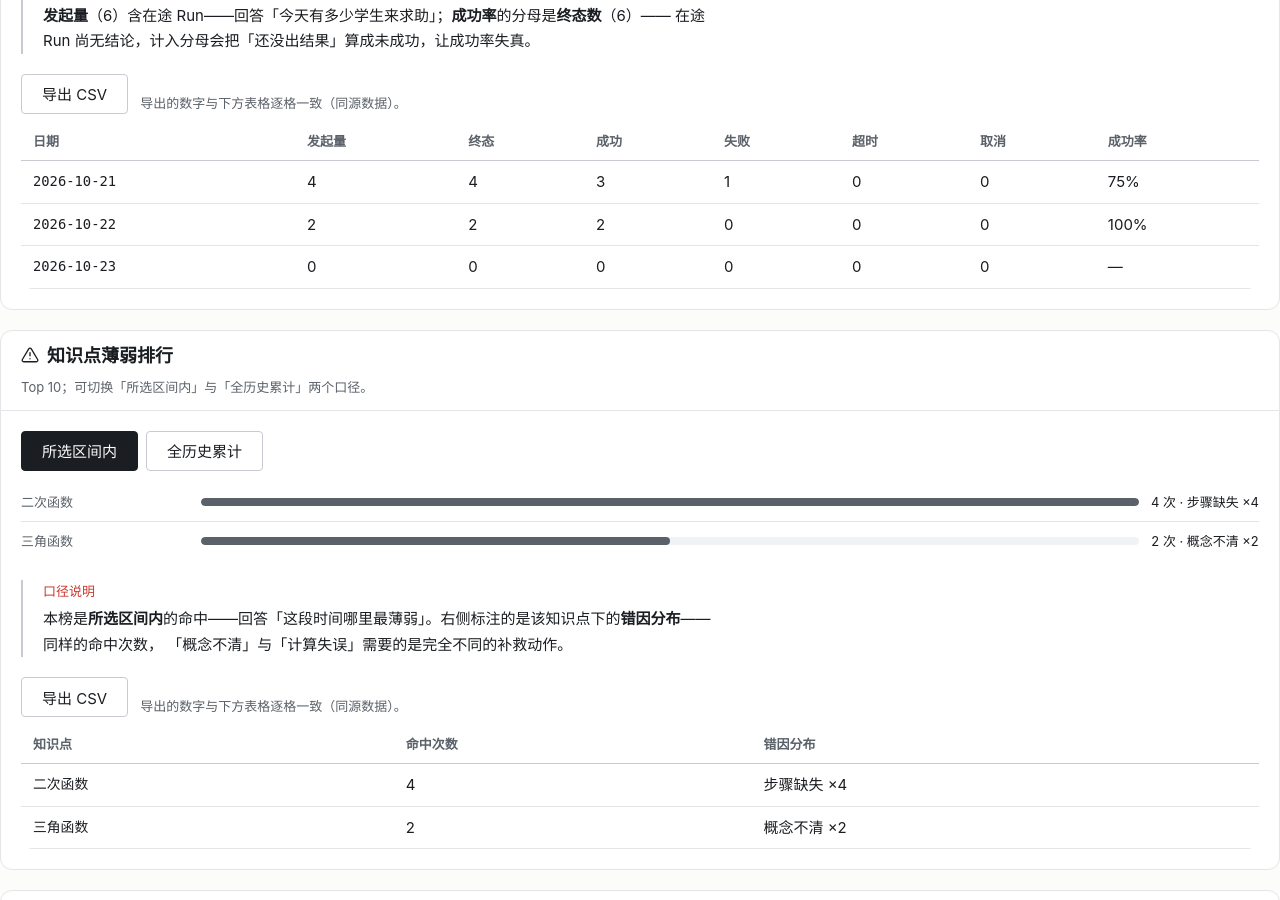
报表中心：知识点排行双口径切换 › ⛔ 切到「全历史累计」必须换成全历史榜（口径说明也要跟着变）
This screenshot has width=1280, height=900.
(page scrolled)
Expected: the text "二次函数" is shown, [21,494,73,510]
Click the button "全历史累计". click: (204, 451)
box: [146,431,263,471]
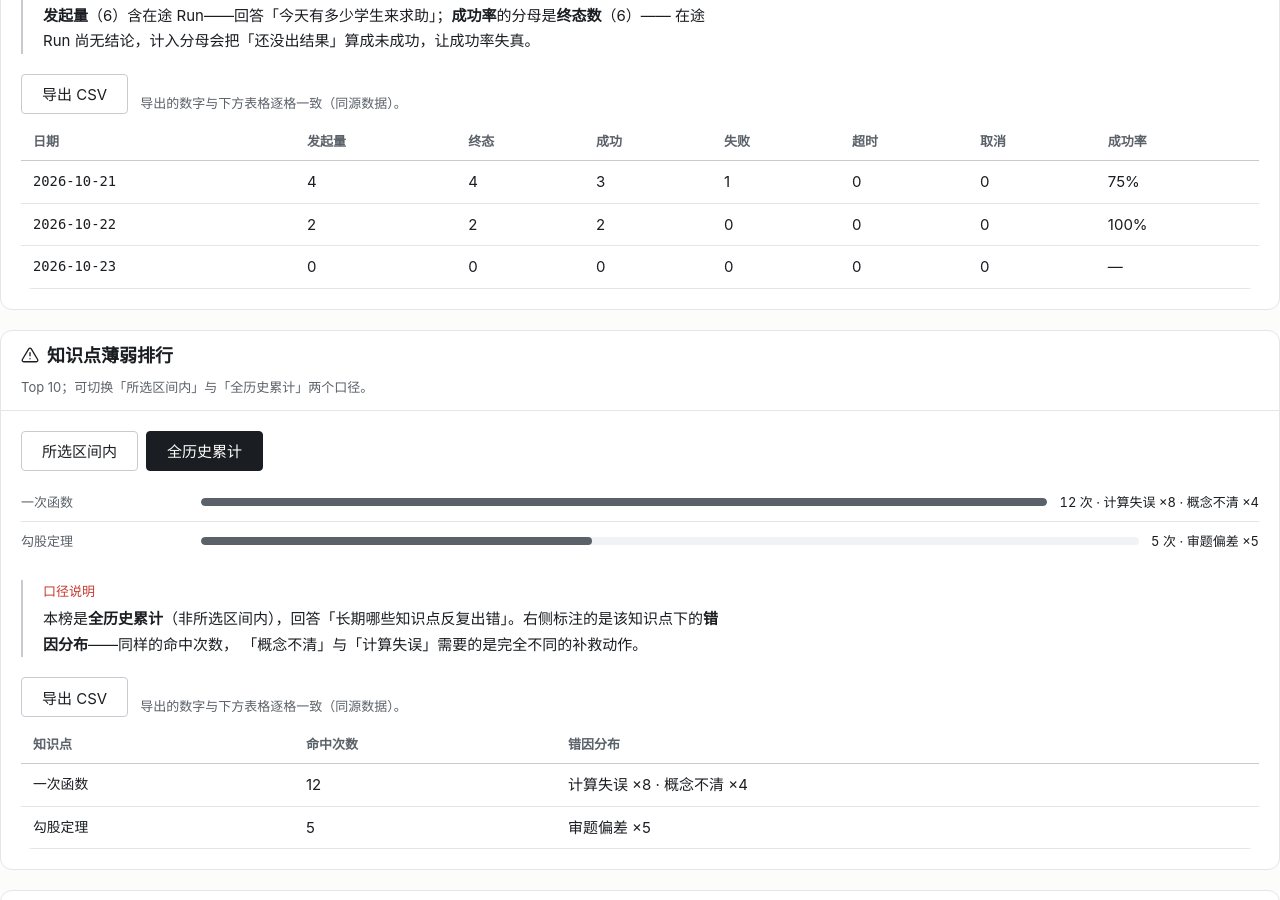
Expected: the text "一次函数" is shown, [21,494,73,510]
Expected: the text "本榜是" shows "全历史累计", [88,609,163,628]
